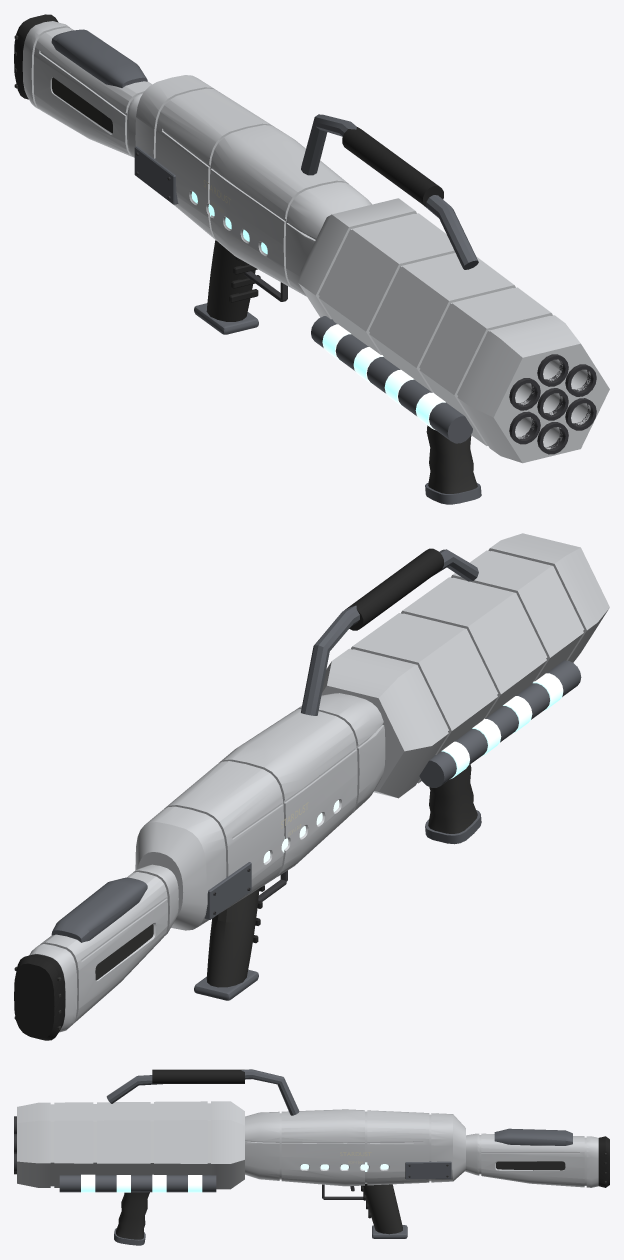
Rendered from stardust.glb.
The picture shows the model from 3 angles, top to bottom: view 1: azimuth 30°, elevation 25°; view 2: azimuth 150°, elevation 25°; view 3: azimuth 270°, elevation 25°; orthographic projection. The views are drawn at different scales.
Parts seen in each view (by area): view 1: Body; view 2: Body; view 3: Body.
Part boxes in pixels (left/top/right/bottom): Body: left=14, top=14, right=609, bottom=504; Body: left=14, top=533, right=609, bottom=1040; Body: left=14, top=1069, right=609, bottom=1245.
Size of the model in its own units: 0.1256 by 0.2652 by 0.836.
